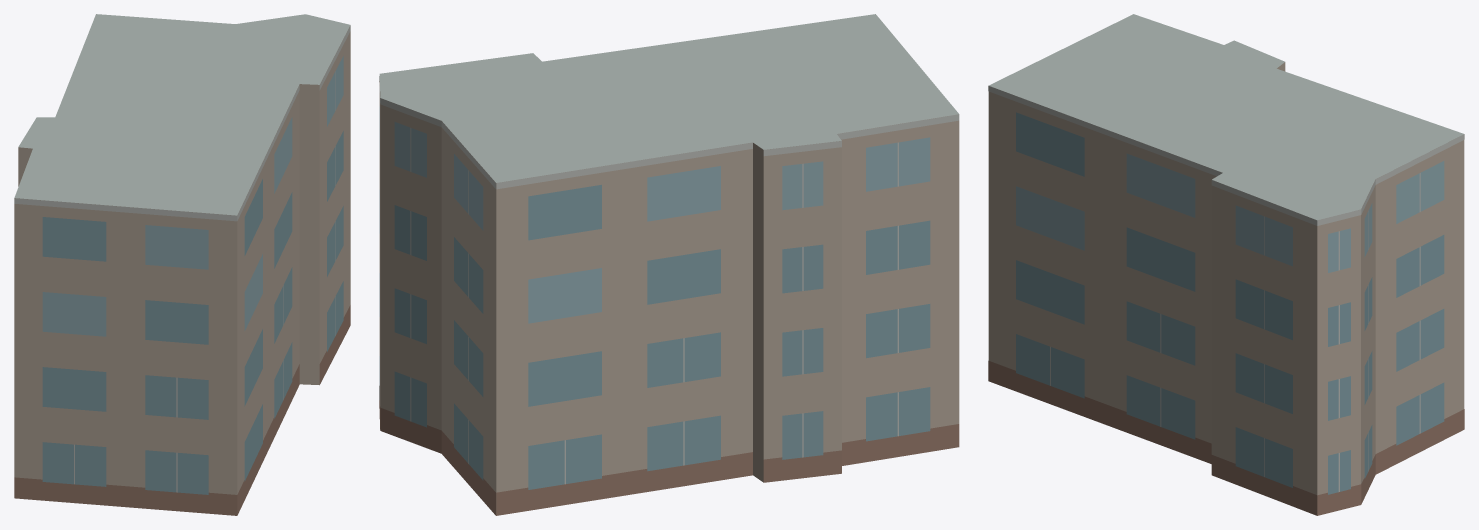
File: survey-upis-32964234.glb
3 renders of one model, left to right at view 1: azimuth 30°, elevation 25°; view 2: azimuth 150°, elevation 25°; view 3: azimuth 270°, elevation 25°, orthographic. The views are drawn at different scales.
Visible parts, largest first — view 1: survey-upis-32964234.tmp; view 2: survey-upis-32964234.tmp; view 3: survey-upis-32964234.tmp.
Part boxes in pixels (x1,y1,x2,y2): survey-upis-32964234.tmp: (14, 14, 350, 515); survey-upis-32964234.tmp: (379, 14, 959, 515); survey-upis-32964234.tmp: (988, 14, 1464, 515).
Size of the model in its own units: 19.03 by 12.7 by 18.55.
